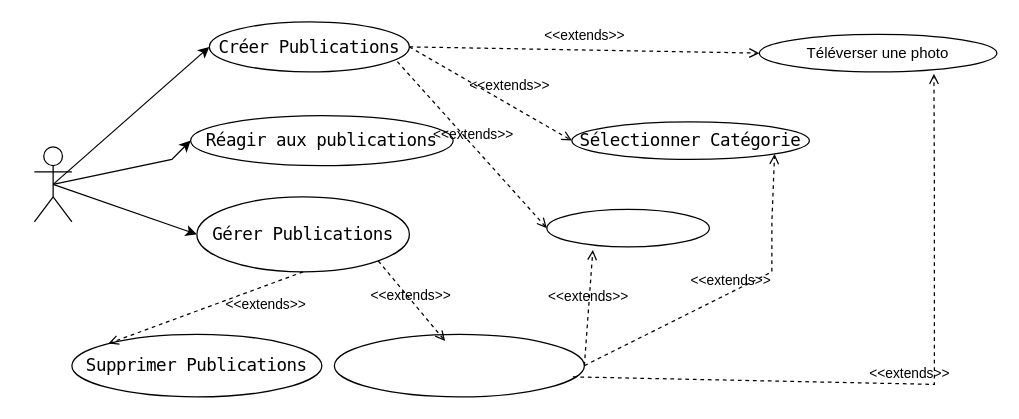
The diagram is 1019 pixels wide and 419 high, and some of its shapes have lost their labels. Here are the shapes that lost their labels. From the top down, the centre of each, then its label:
At (52,184): "utilisateur".
At (627,227): "Ajouter Tags".
At (458,365): "Modifier Publications".
